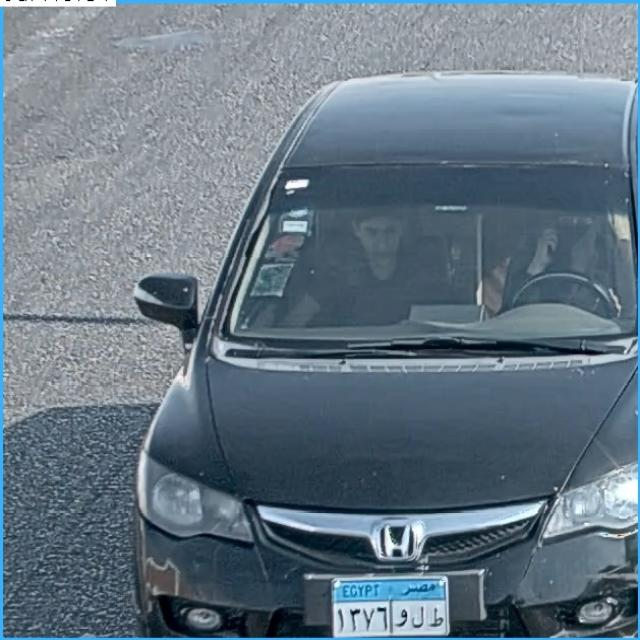windshield: (240, 164, 636, 353)
